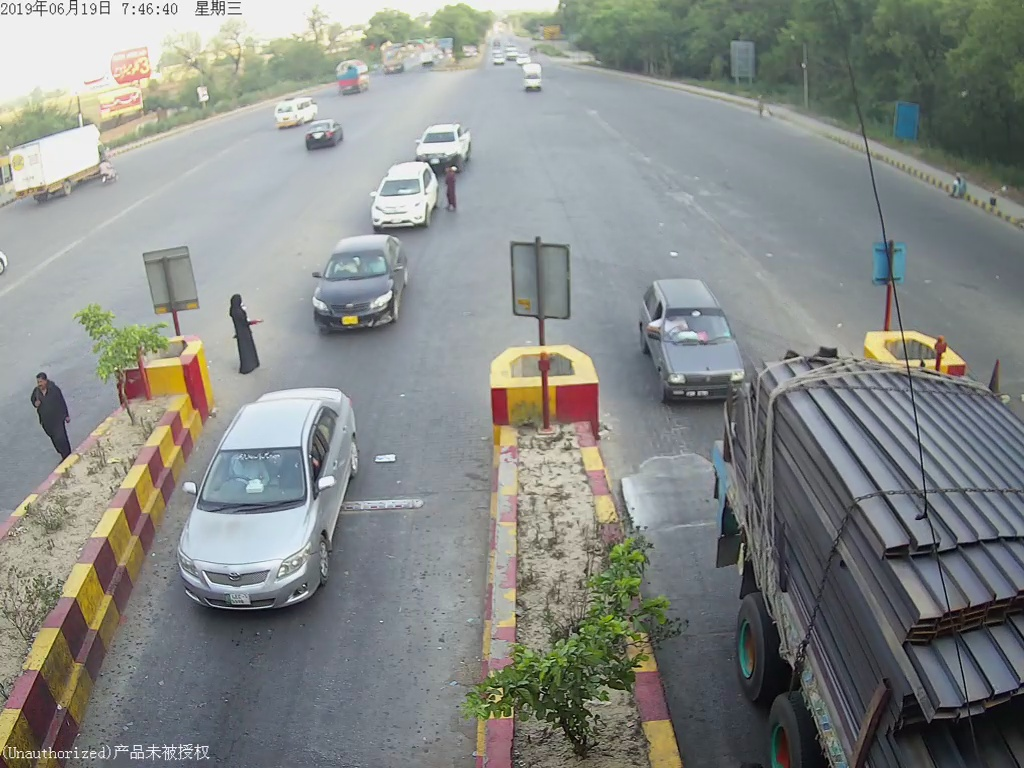Cat-1: (185, 381, 365, 620), (634, 266, 738, 402), (304, 236, 416, 336), (365, 159, 438, 224)
